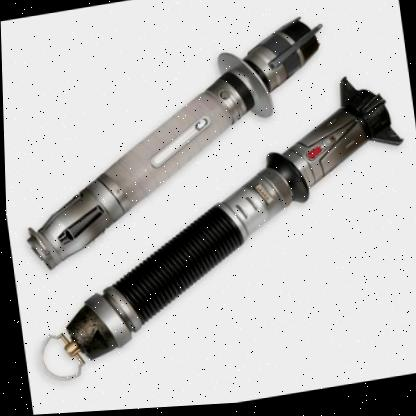lightsaber: (5, 66, 416, 388), (1, 4, 353, 276)
